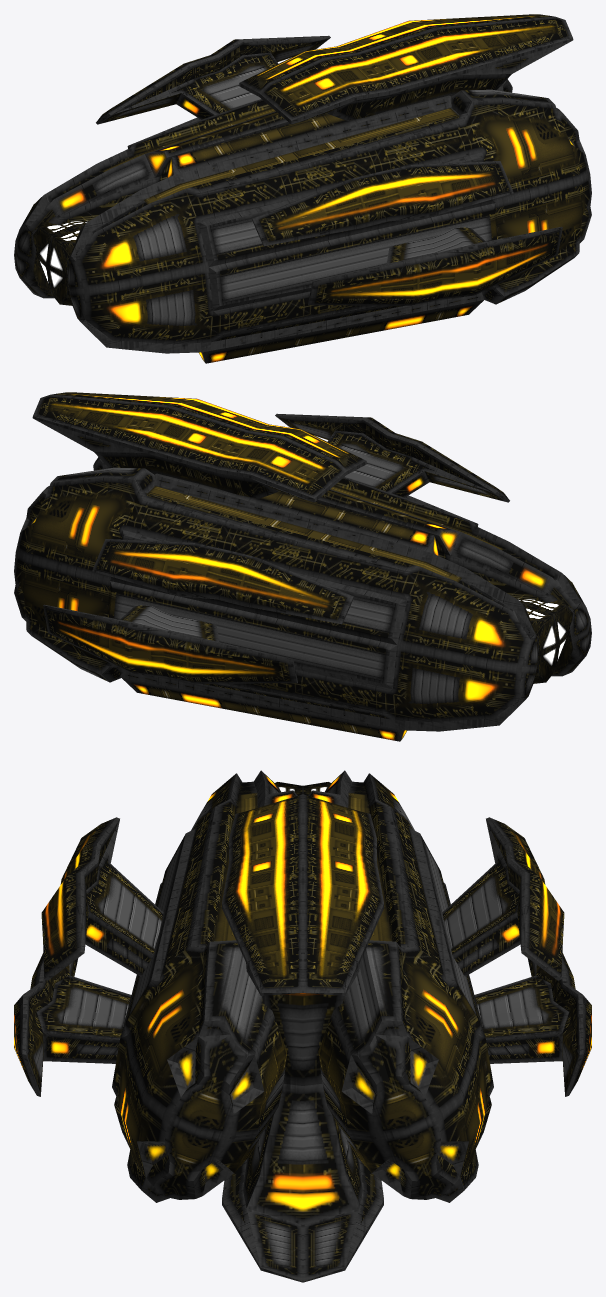
The model's file is etheriumFighter.FBX.
3 renders of one model, top to bottom at view 1: azimuth 30°, elevation 25°; view 2: azimuth 150°, elevation 25°; view 3: azimuth 270°, elevation 25°, orthographic. The views are drawn at different scales.
Parts seen in each view (by area): view 1: Box002; view 2: Box002; view 3: Box002.
Part boxes in pixels (<box>): Box002: <box>14,14,591,363</box>; Box002: <box>14,392,591,741</box>; Box002: <box>14,770,591,1282</box>.
Bounding box in the file's own units: 19.56 × 9.65 × 14.47.
1 material, 1 textured.
